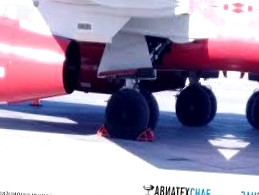chock: (137, 125, 158, 142), (95, 122, 114, 138)
wheel: (103, 86, 151, 142), (172, 83, 219, 129), (245, 88, 259, 134)
